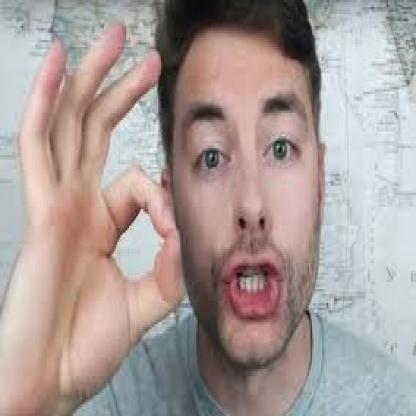ok: (9, 16, 184, 392)
